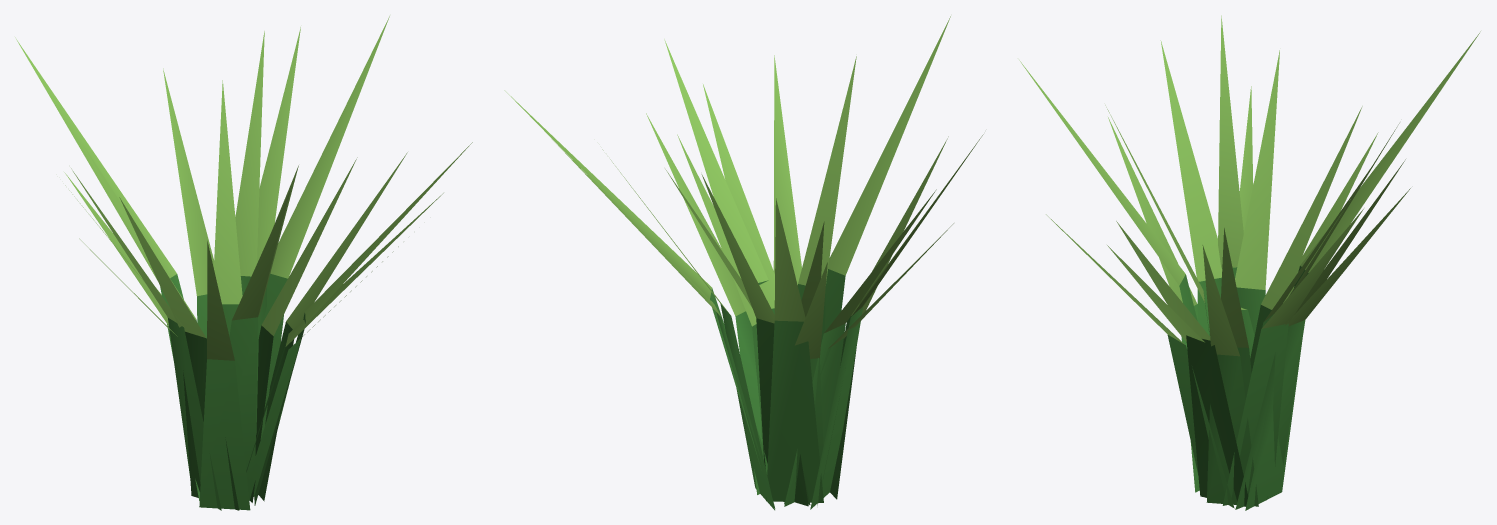
Rendered from shrub_grass_a.glb.
The picture shows the model from 3 angles, left to right: view 1: azimuth 30°, elevation 25°; view 2: azimuth 150°, elevation 25°; view 3: azimuth 270°, elevation 25°; orthographic projection. The views are drawn at different scales.
Parts seen in each view (by area): view 1: Body; view 2: Body; view 3: Body.
Part boxes in pixels (x1,y1,x2,y2): Body: [15, 16, 472, 510]; Body: [504, 16, 983, 510]; Body: [1019, 15, 1480, 510].
Bounding box in the file's own units: 0.8228 × 0.7997 × 0.8159.
1 material, 1 textured.
